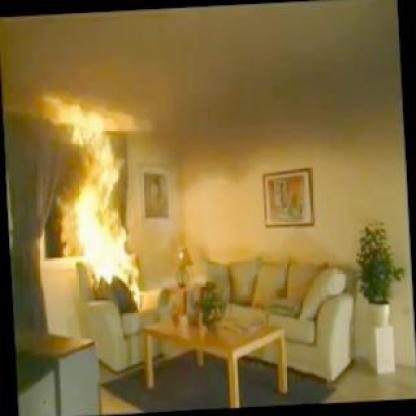Fire: (50, 100, 154, 302)
